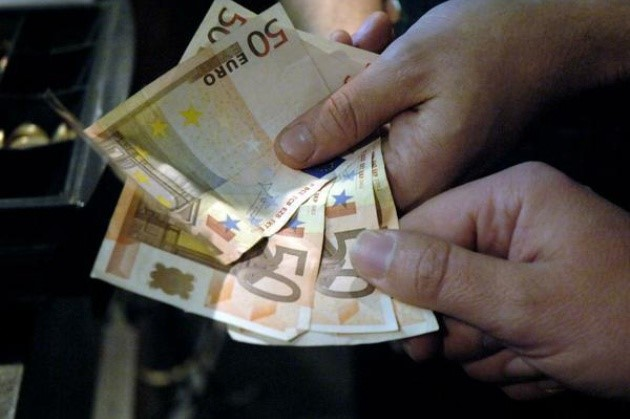billete: (73, 1, 442, 351)
